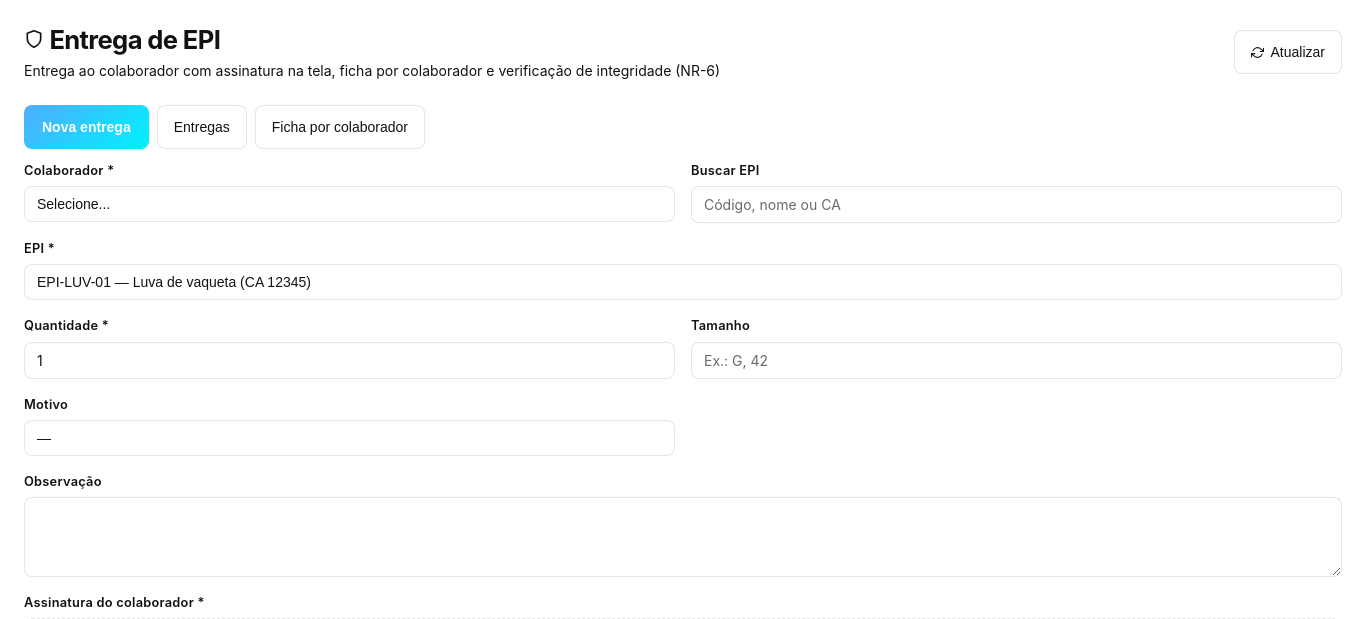
Scenario: Nova entrega › o EPI escolhido mostra CA e validade
Select "EPI-LUV-01 — Luva de vaqueta (CA 12345)" in the dropdown with id "epi-material" at (683, 282), box [24,264,1342,300]
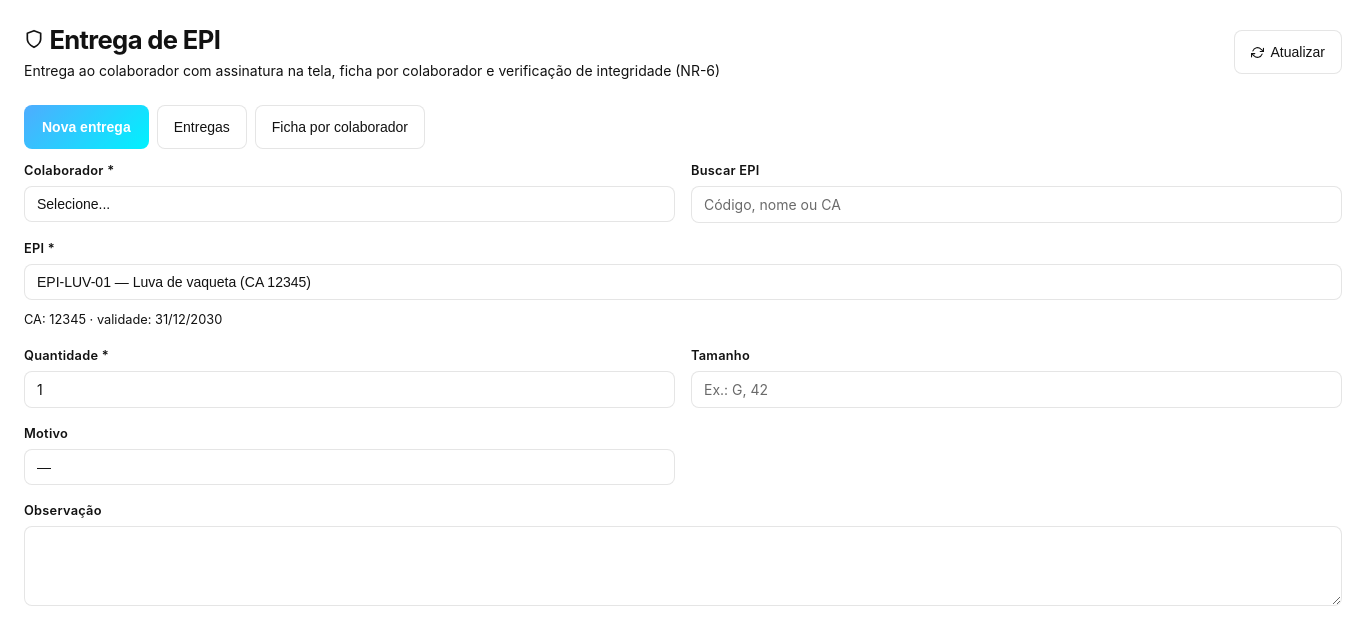
Expected: the text with class "almox-epi-ca" reads "CA: 12345 · validade: 31/12/2030", [24,312,222,327]
